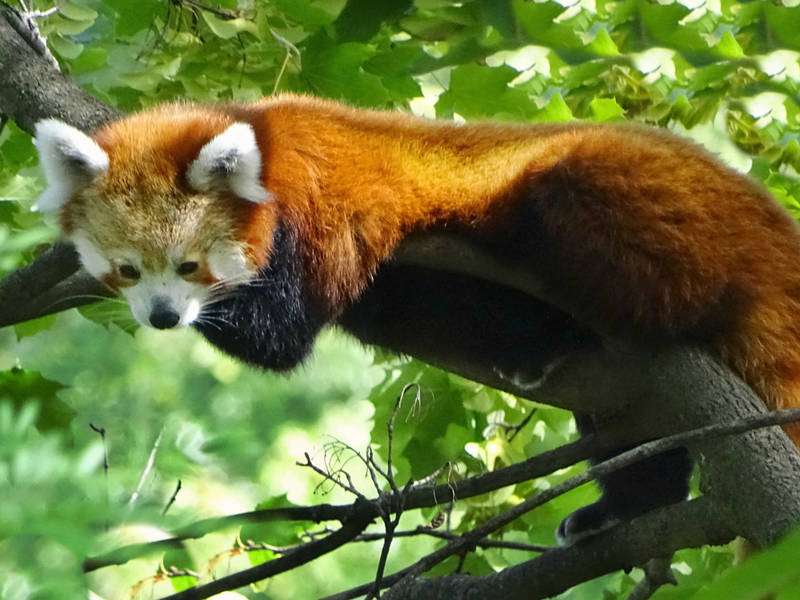red_panda: (41, 96, 800, 426)
